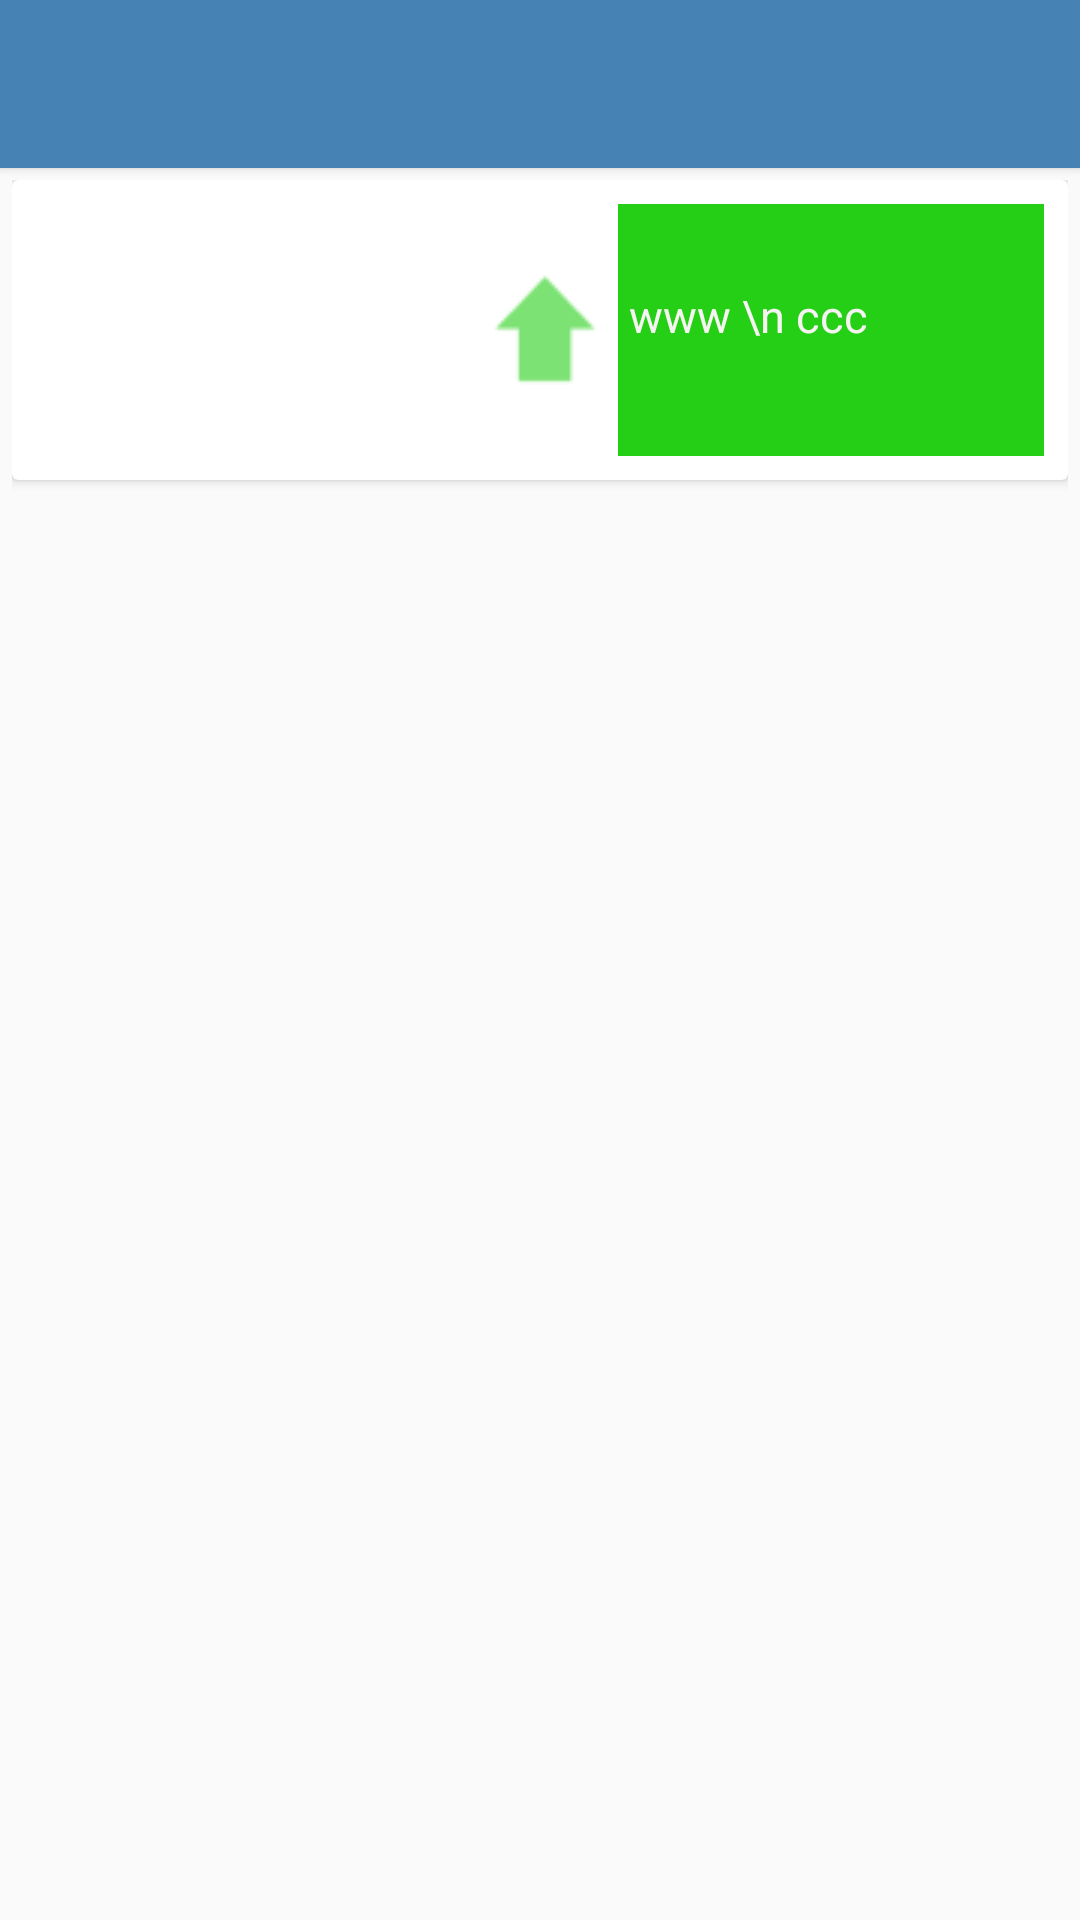

Locate icon controls on the screen. Image size 1080 × 1920, boxes as (x1, y1, x2, y2).
trend up: (496, 276, 594, 382)
